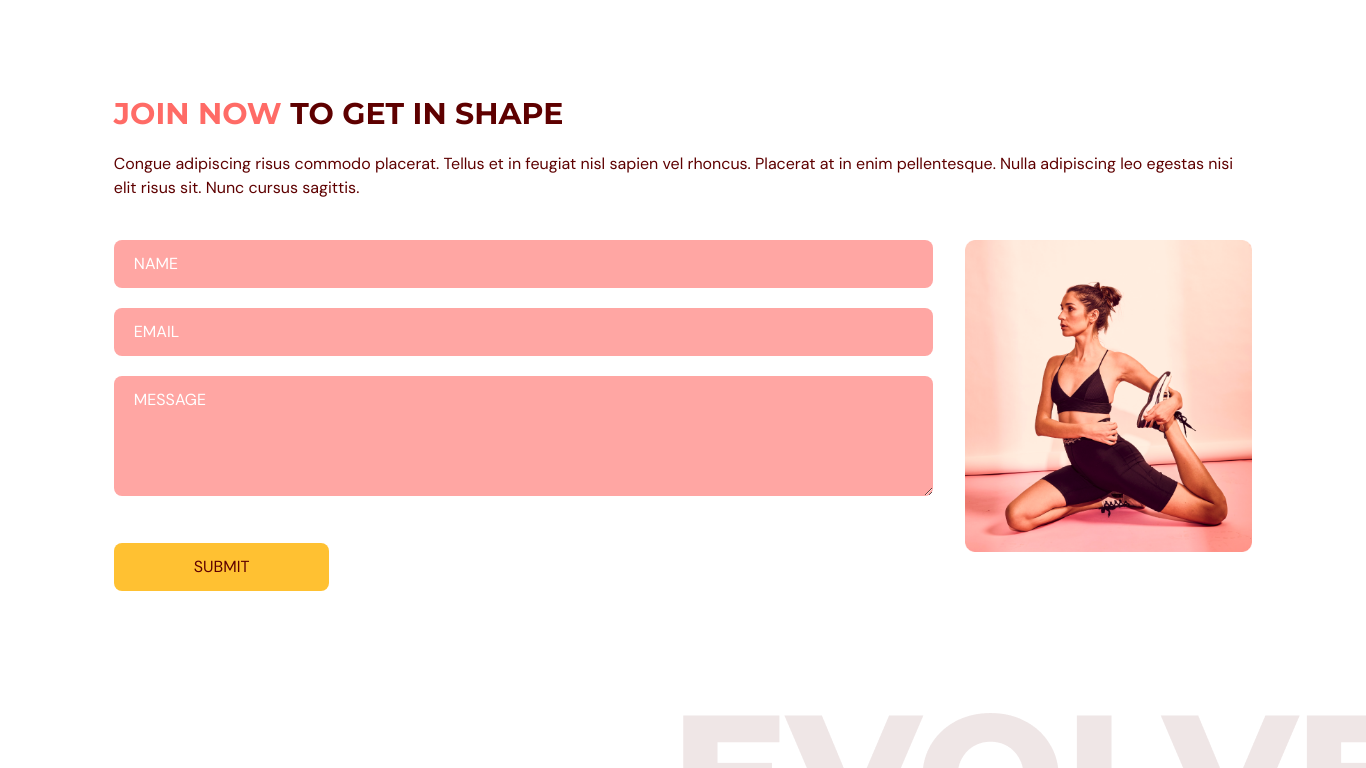
Test case: ContactUs Test › Affichage du message [This field is required] pour l'input Email
This screenshot has width=1366, height=768.
# Simulate user input
Type "Jhon" into the field with placeholder "NAME".
click(524, 264); type("Jhon")  # box [114, 240, 933, 288]
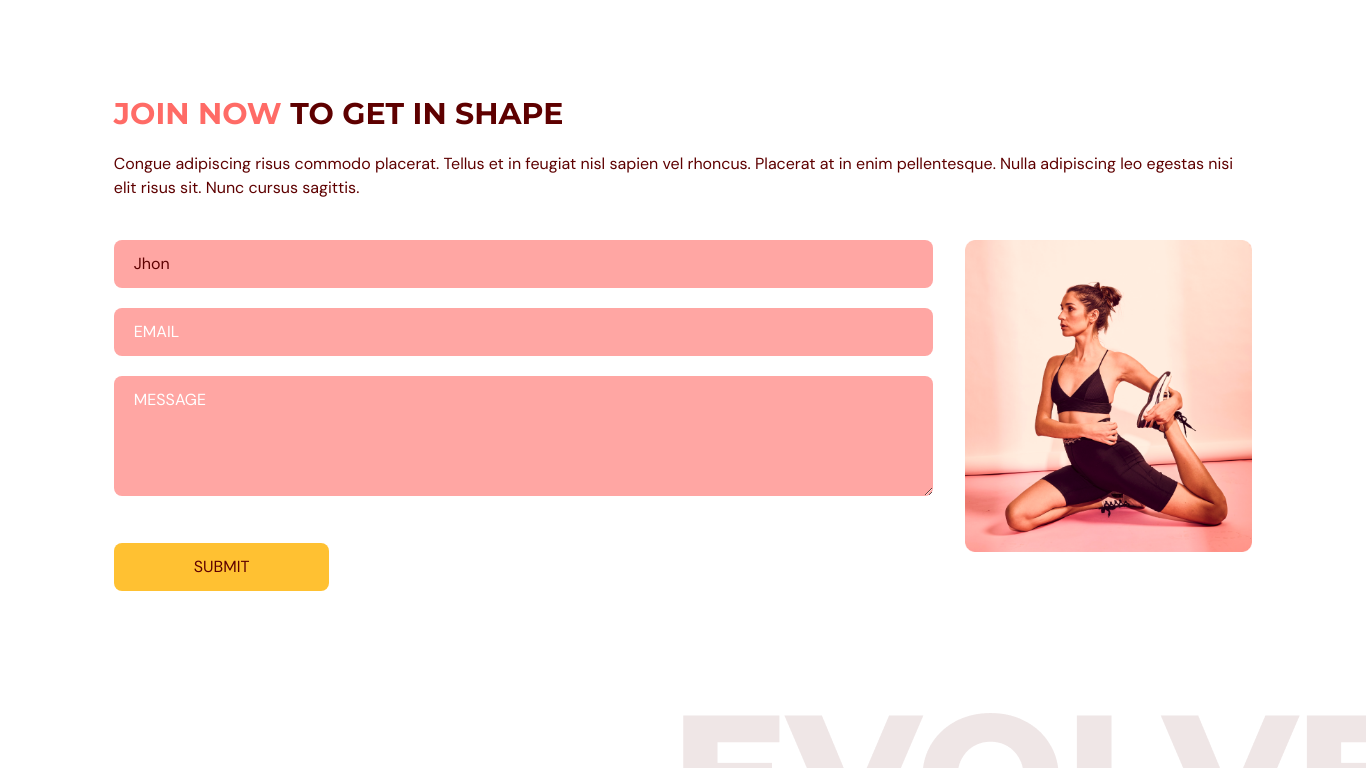
Type "Hello, world!" into the text box with placeholder "MESSAGE".
click(524, 436); type("Hello, world!")  # box [114, 376, 933, 496]
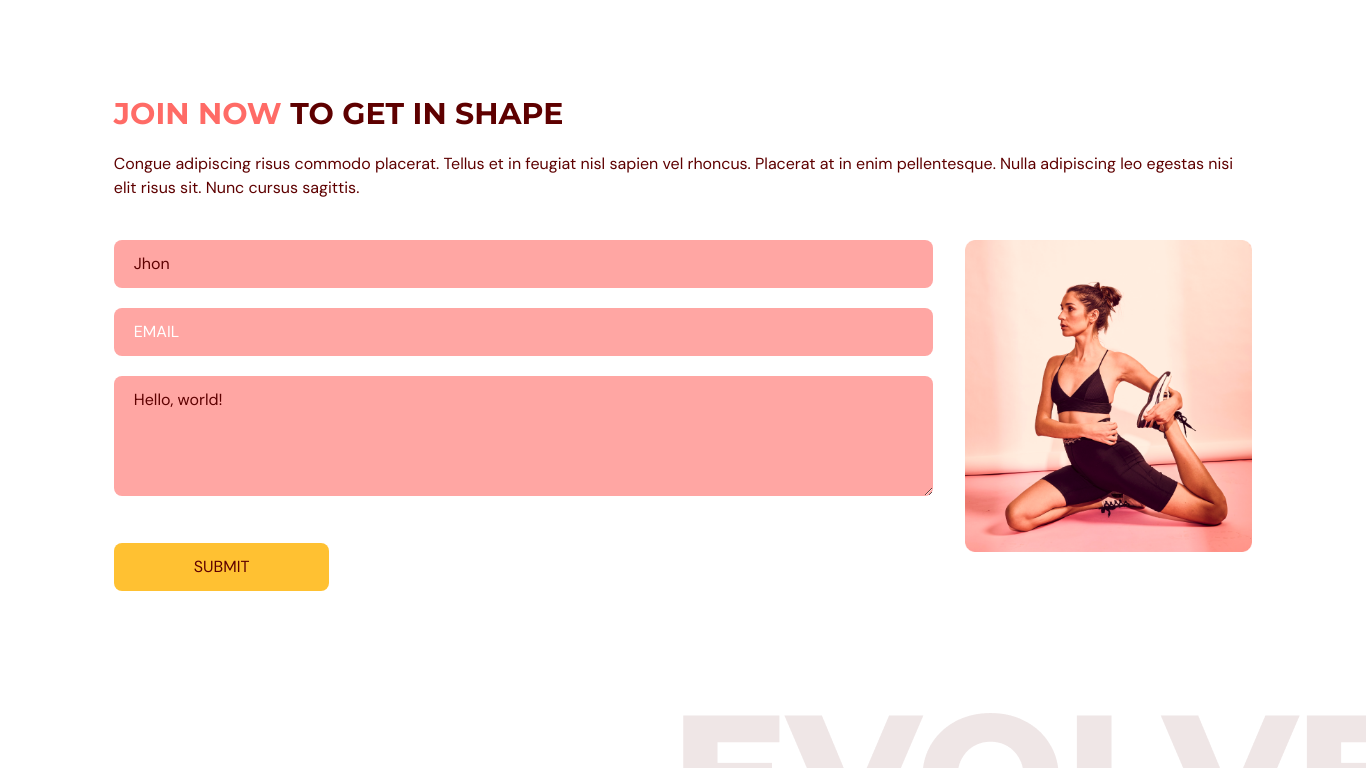
# Submit the form
Click the button "SUBMIT".
click(222, 567)  # box [114, 543, 329, 591]
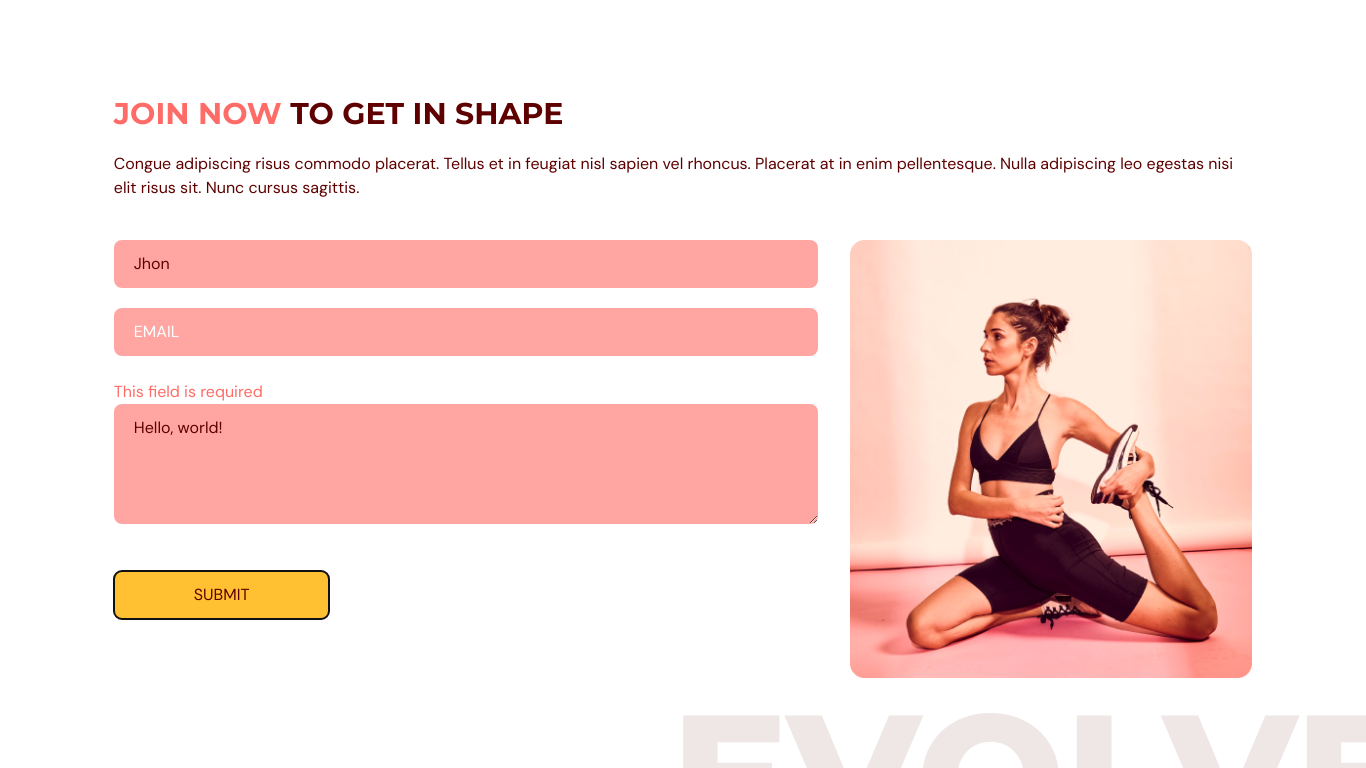
Now the text "This field is required" is shown once, box [114, 381, 263, 402]
